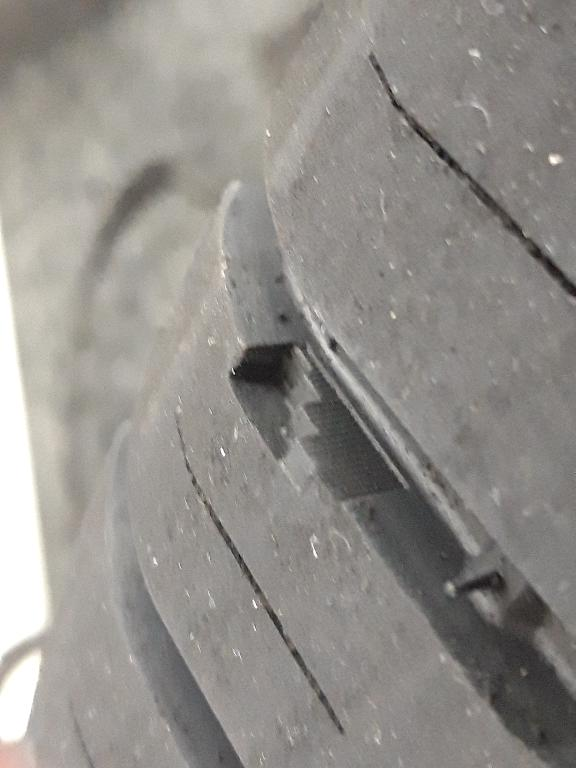temoin:75: (221, 332, 398, 499)
